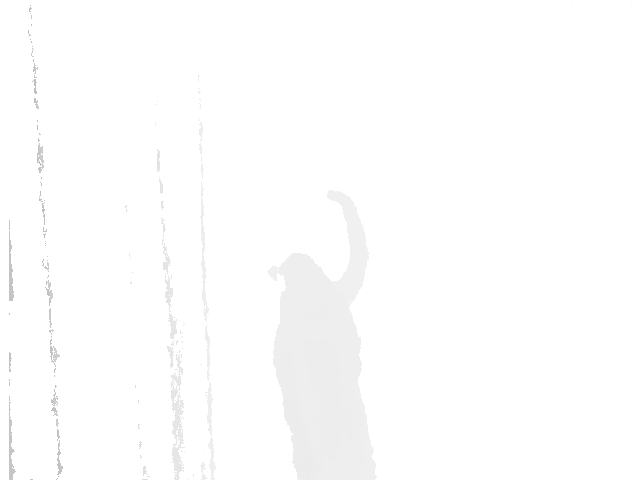hand: (325, 188, 355, 205)
head: (266, 251, 337, 308)
person: (270, 188, 378, 480)
